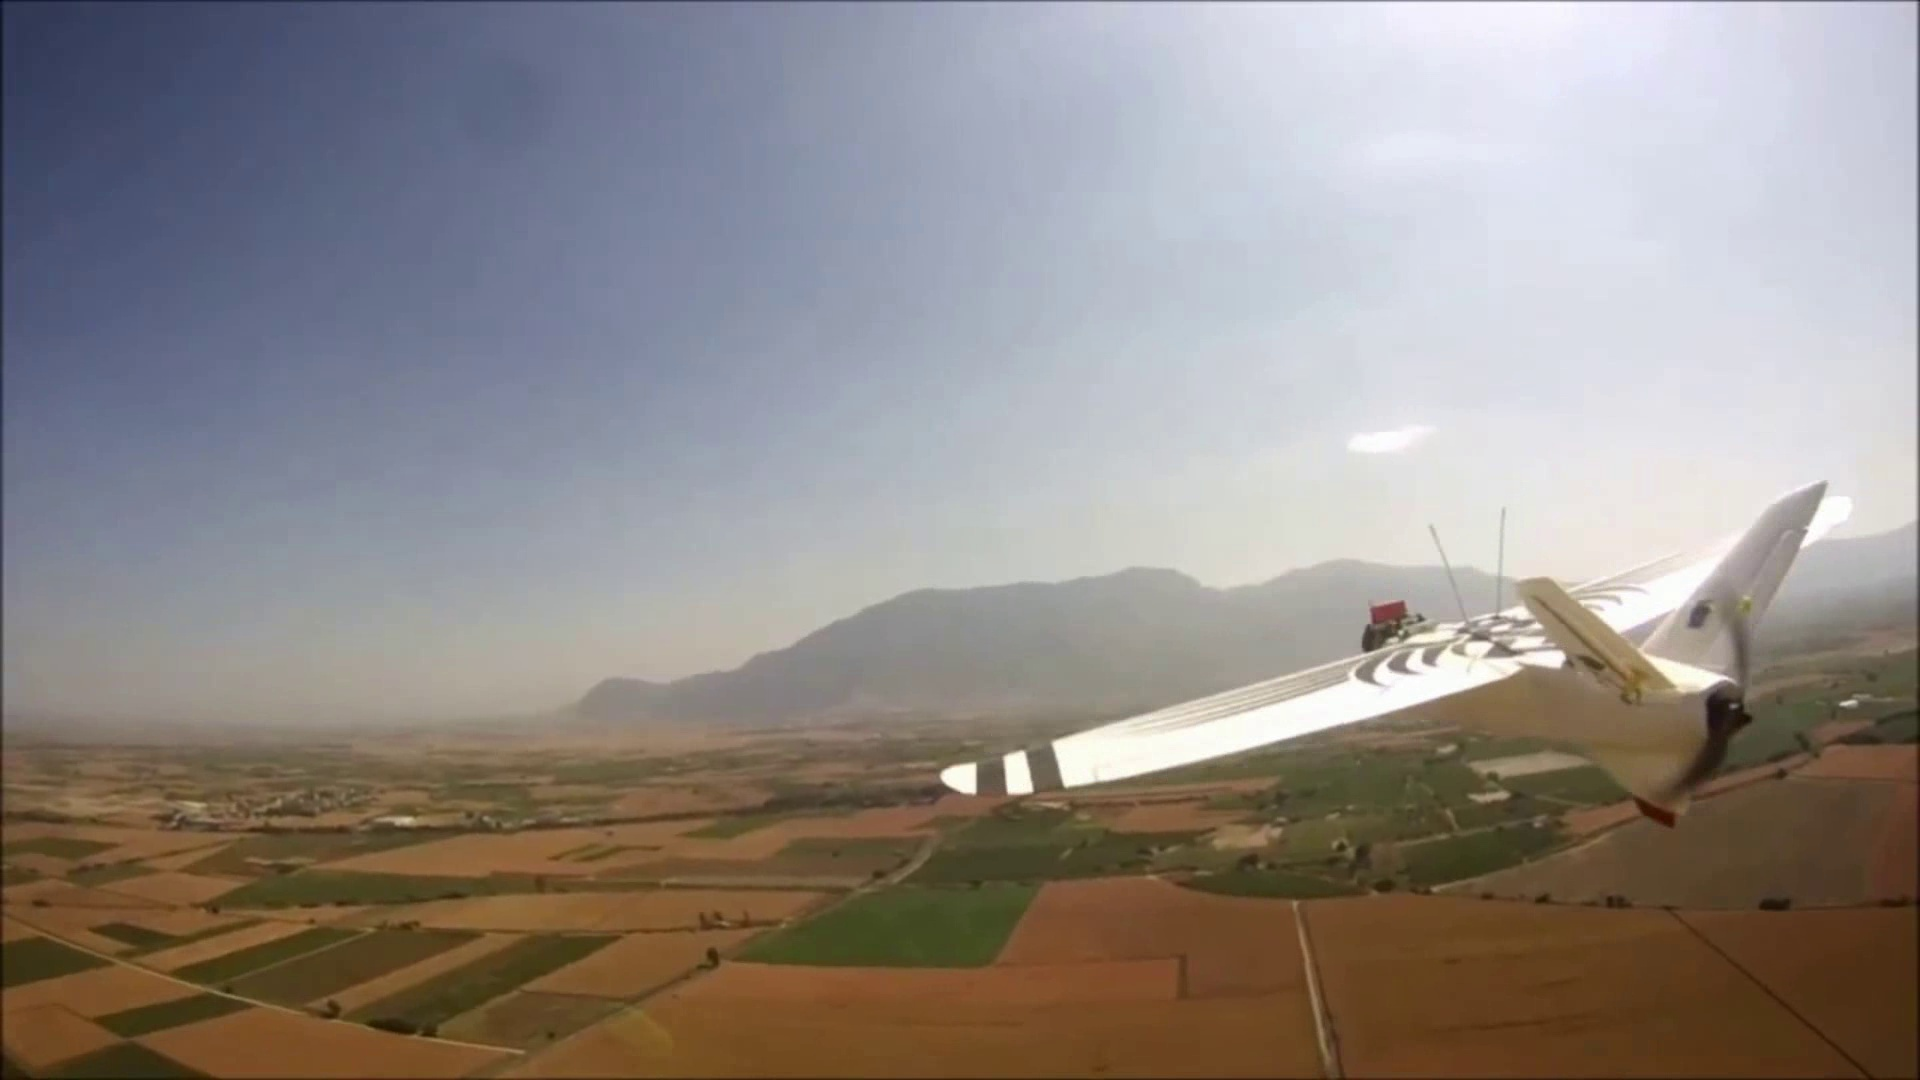airplane: (929, 484, 1913, 889)
